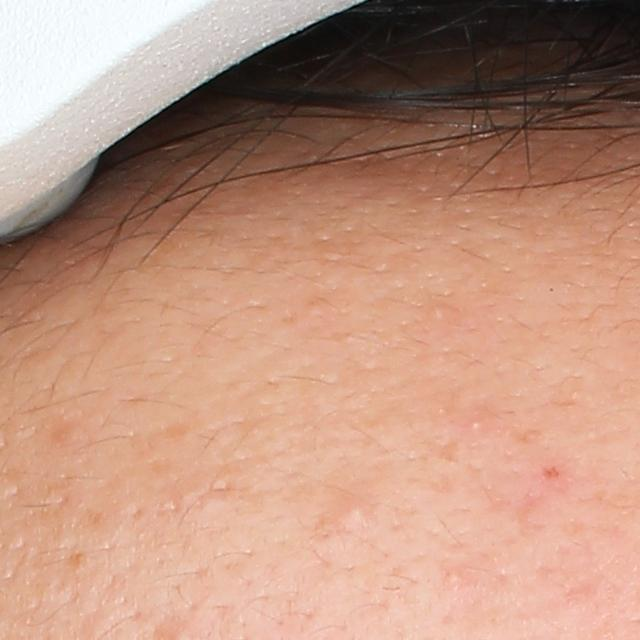comedo: (337, 497, 367, 522), (428, 303, 455, 330), (462, 412, 487, 433)
